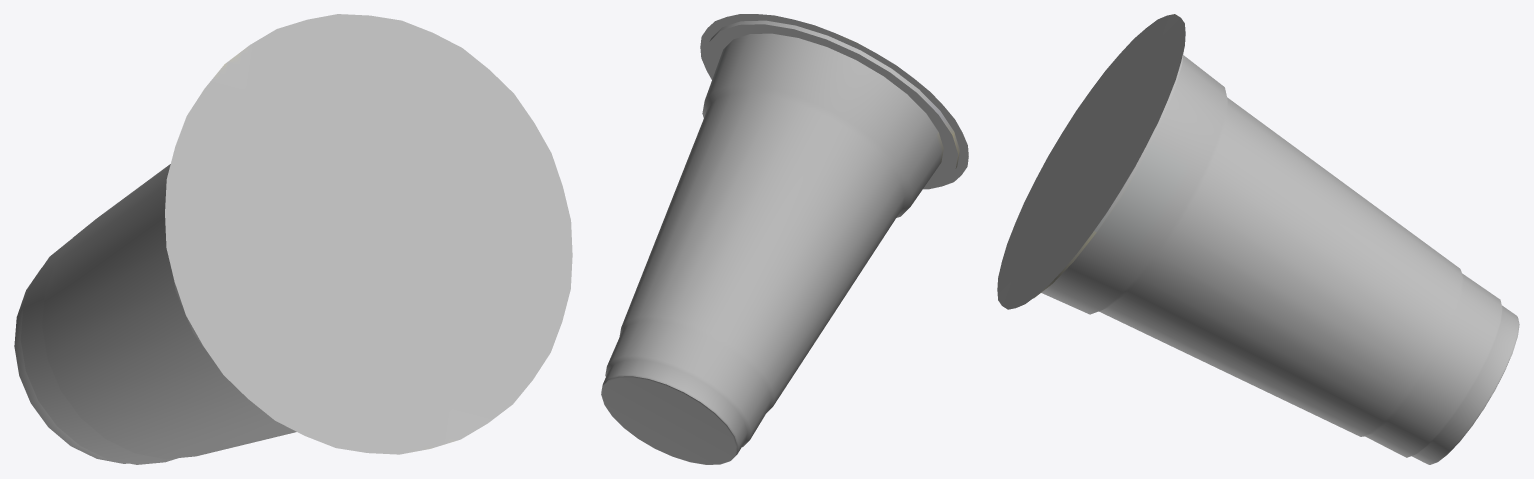
File: BFCornJuice.glb
3 renders of one model, left to right at view 1: azimuth 30°, elevation 25°; view 2: azimuth 150°, elevation 25°; view 3: azimuth 270°, elevation 25°, orthographic. The views are drawn at different scales.
Visible parts, largest first — view 1: yumizhi; view 2: yumizhi; view 3: yumizhi.
Part boxes in pixels (<box>): yumizhi: <box>14,14,572,464</box>; yumizhi: <box>601,14,968,464</box>; yumizhi: <box>997,14,1519,464</box>.
Bounding box in the file's own units: 1.22 × 1.67 × 1.88.
2 materials, 1 textured.
